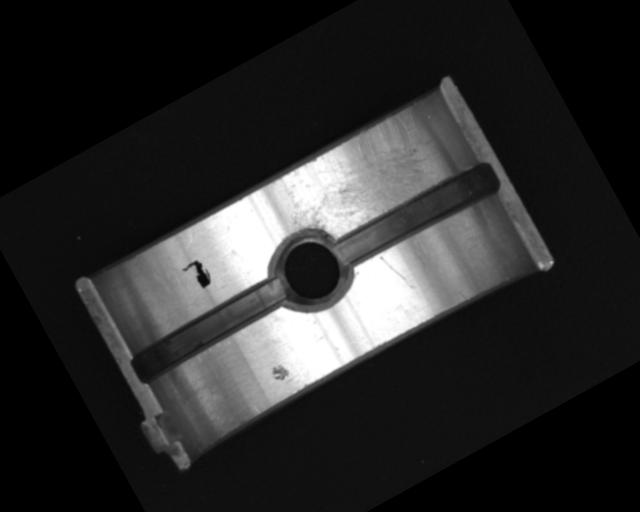blot: (180, 256, 215, 294)
bruise: (267, 360, 291, 384)
gap: (327, 154, 504, 277), (126, 271, 293, 385)
hole: (259, 217, 360, 321)
nick: (378, 248, 414, 295)
scratch: (267, 100, 455, 254)
